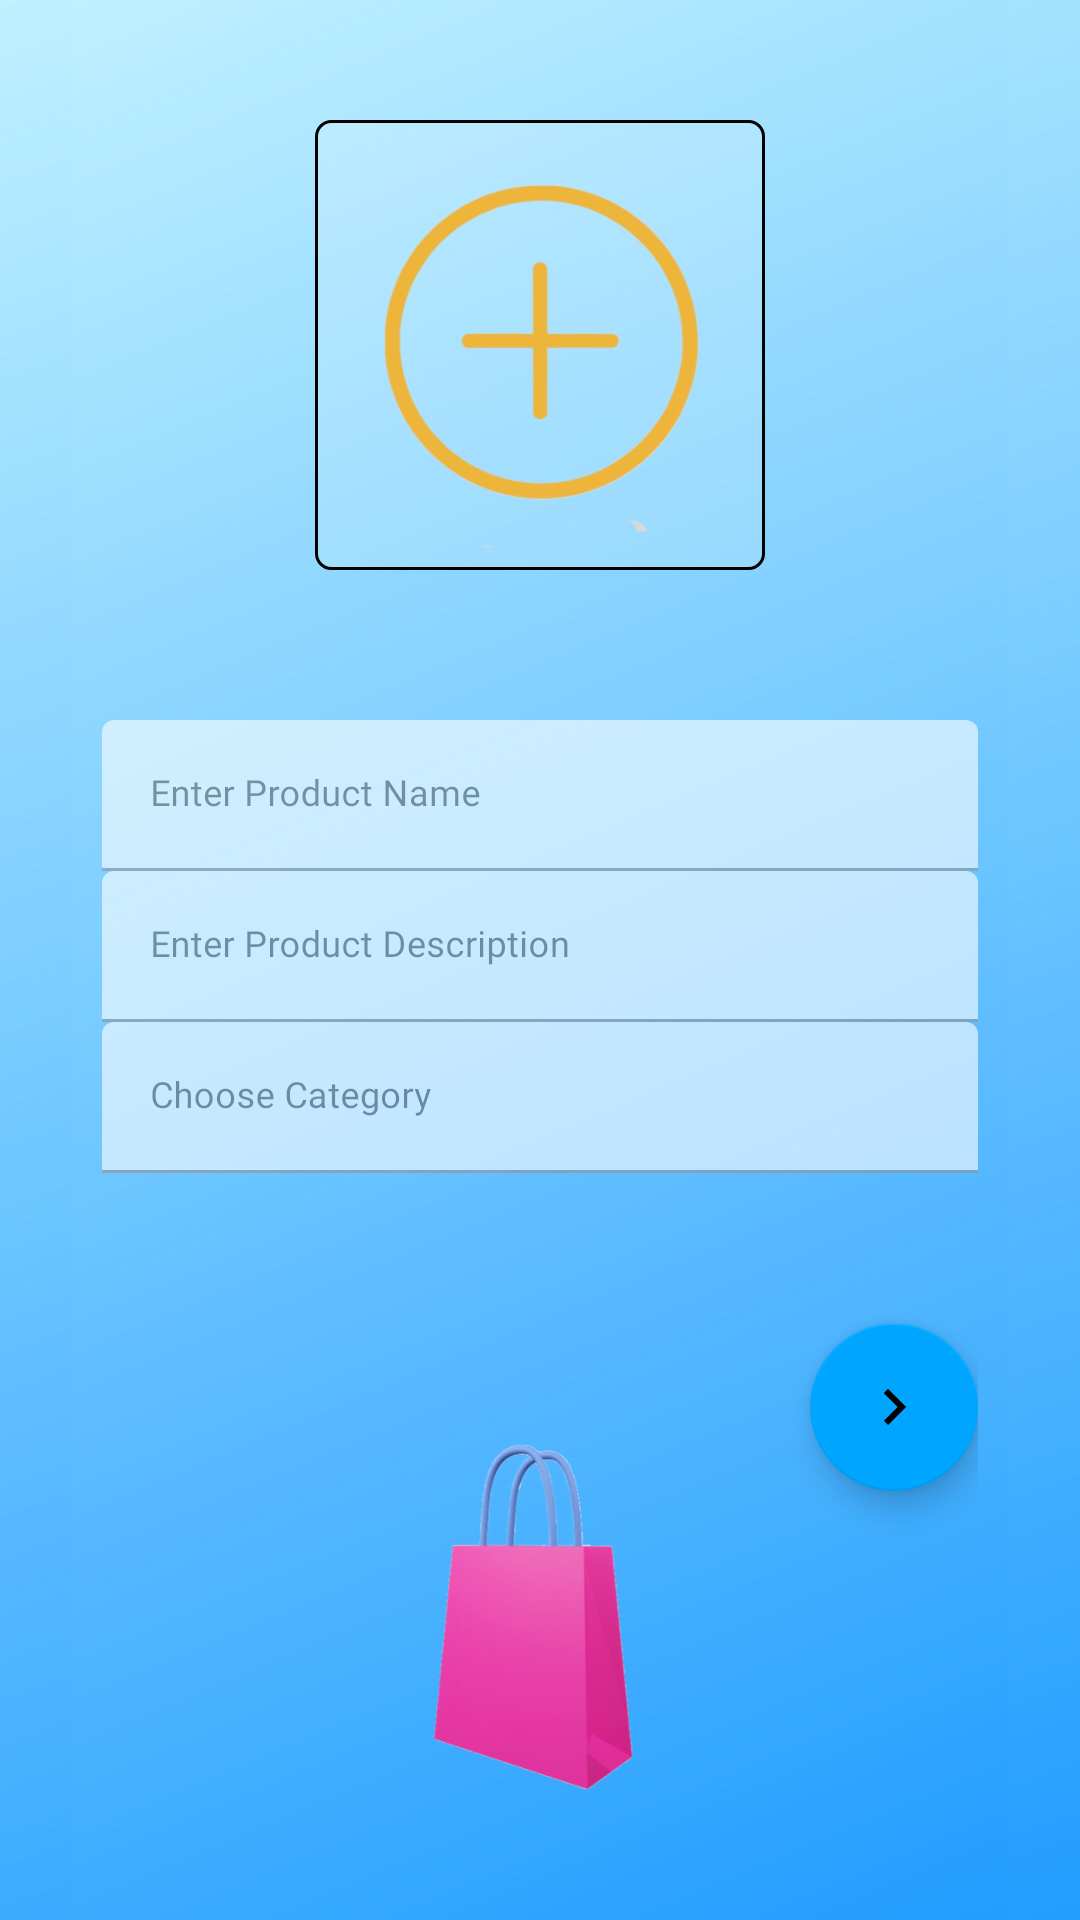

Where icons sit on this 1080 x 1920 app screen, as box=[x1, y1, x2, y2]:
next: box=[810, 1323, 978, 1491]
